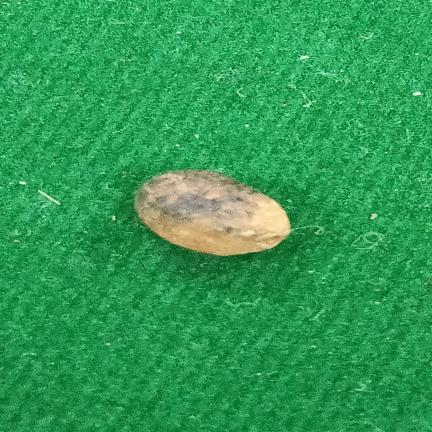partial-black: (135, 169, 290, 256)
